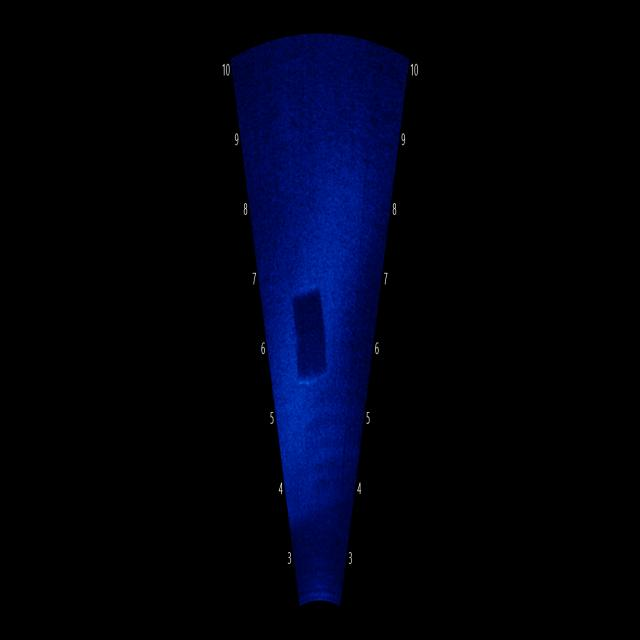square: (282, 271, 336, 397)
